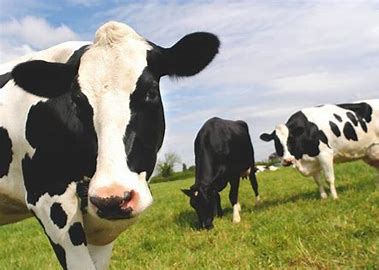waka: (1, 14, 222, 267)
